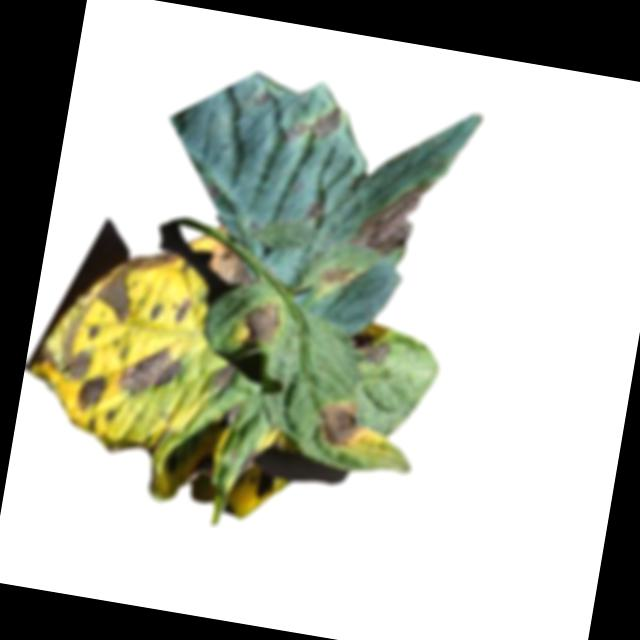Early_blight: (343, 167, 434, 260), (92, 241, 179, 330), (115, 335, 190, 404), (282, 96, 343, 149), (52, 312, 97, 380), (316, 396, 369, 450), (206, 238, 260, 289), (240, 294, 285, 353), (349, 329, 390, 364), (77, 369, 109, 413), (209, 359, 238, 393), (321, 262, 355, 289), (171, 293, 195, 328), (305, 195, 324, 218), (252, 89, 273, 107), (84, 323, 101, 342)
